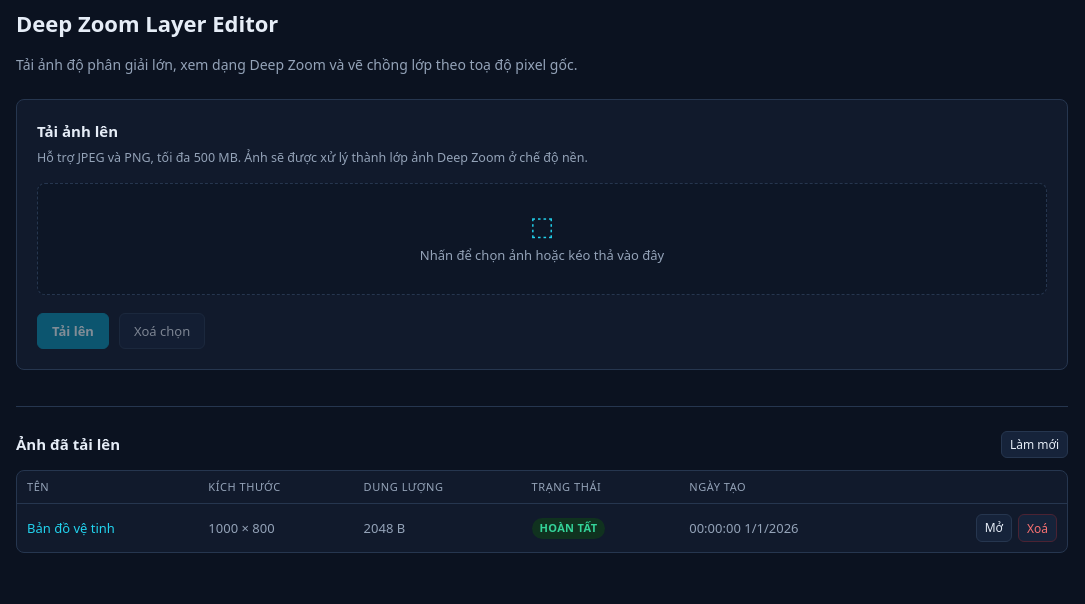
HomePage › shows an error when the delete fails
Click the button with test id "delete-image-1".
click(1038, 528)  # box [1018,514,1057,542]
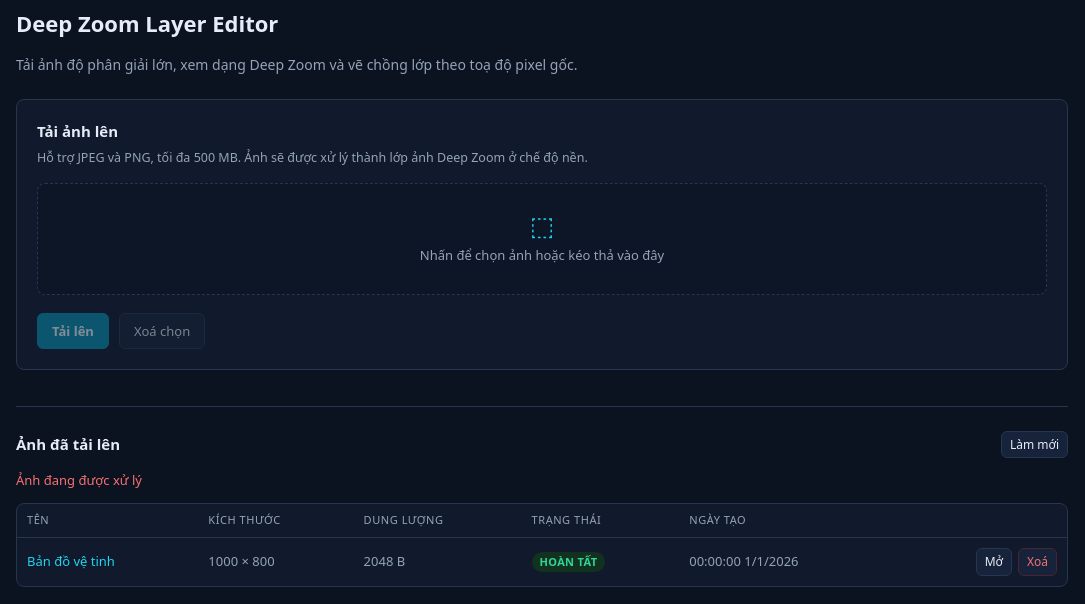
Check: the message with test id "list-error" reads "Ảnh đang được xử lý", box [16,471,142,489]
